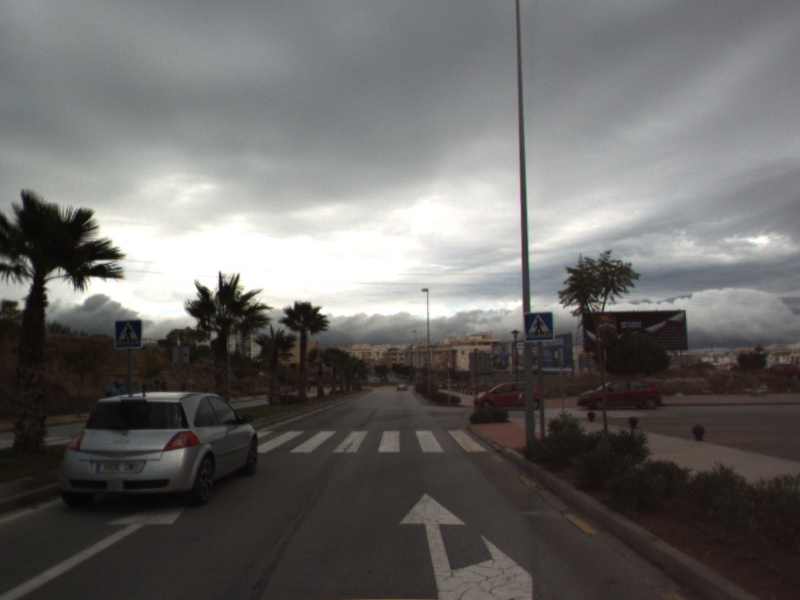STRAIGHT: (1, 502, 189, 600)
STRAIGHT_RIGHT: (397, 490, 536, 600)
